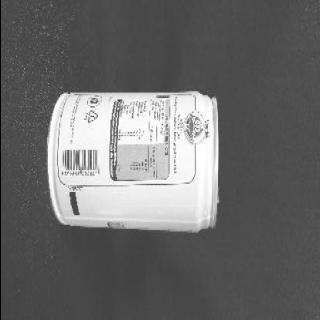alumunium_can: (45, 91, 218, 233)
